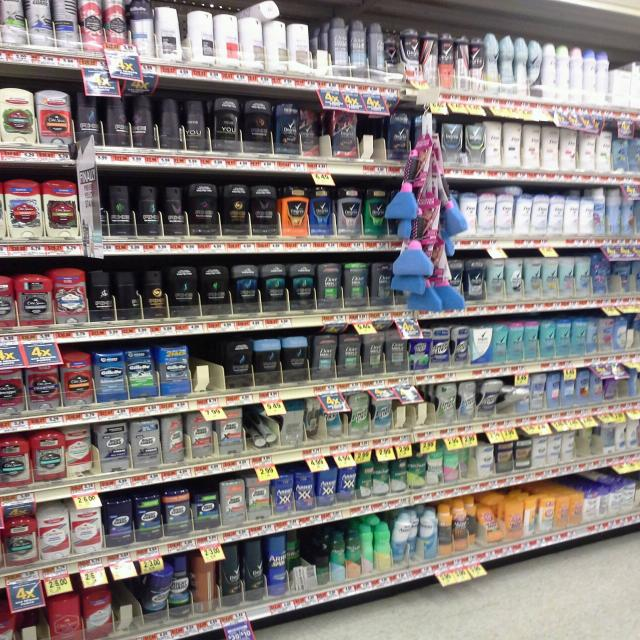empty: (181, 338, 233, 399), (360, 108, 396, 164)
